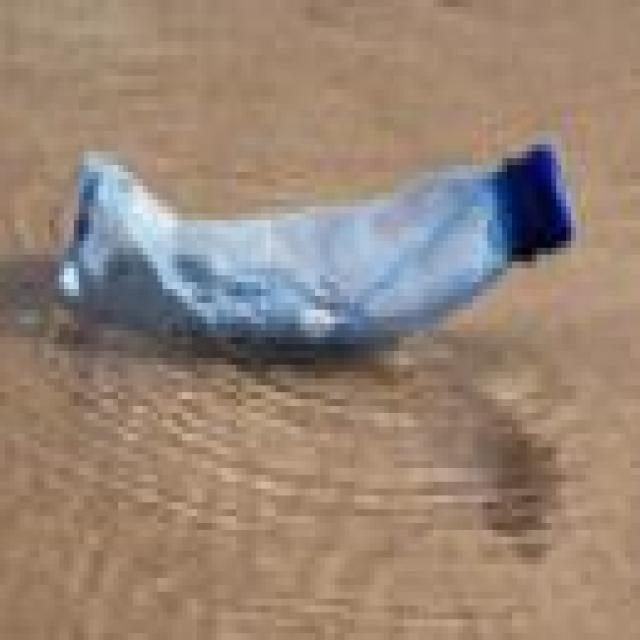general: (49, 131, 576, 358)
